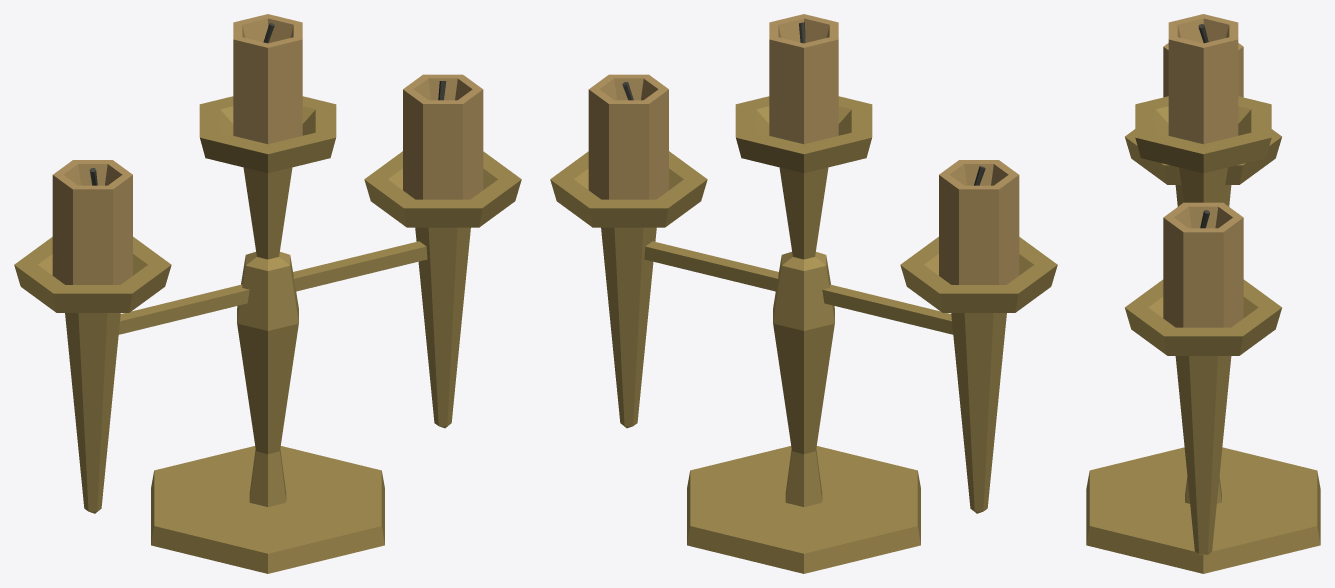
Rendered from candlestick_triple.gltf.
3 views of the same model, side by side, from view 1: azimuth 30°, elevation 25°; view 2: azimuth 150°, elevation 25°; view 3: azimuth 270°, elevation 25° (orthographic).
Parts seen in each view (by area): view 1: Candlestick_Triple; view 2: Candlestick_Triple; view 3: Candlestick_Triple.
Part boxes in pixels (<box>): Candlestick_Triple: <box>14,14,521,573</box>; Candlestick_Triple: <box>550,14,1057,573</box>; Candlestick_Triple: <box>1086,14,1320,573</box>.
Size of the model in its own units: 0.6793 by 0.6837 by 0.294.
2 materials, 2 textured.
